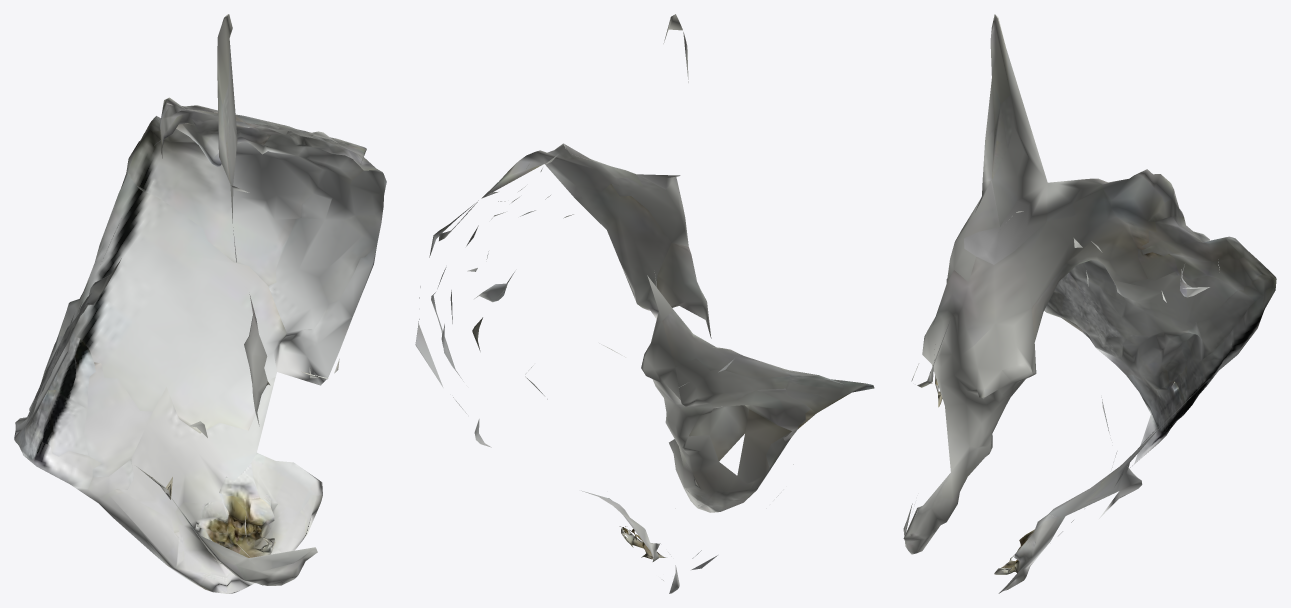
Rendered from hall.glb.
The picture shows the model from 3 angles, left to right: view 1: azimuth 30°, elevation 25°; view 2: azimuth 150°, elevation 25°; view 3: azimuth 270°, elevation 25°; orthographic projection. The views are drawn at different scales.
Size of the model in its own units: 1.38 by 1.9 by 1.12.
Materials: 1 (1 with a texture image).
